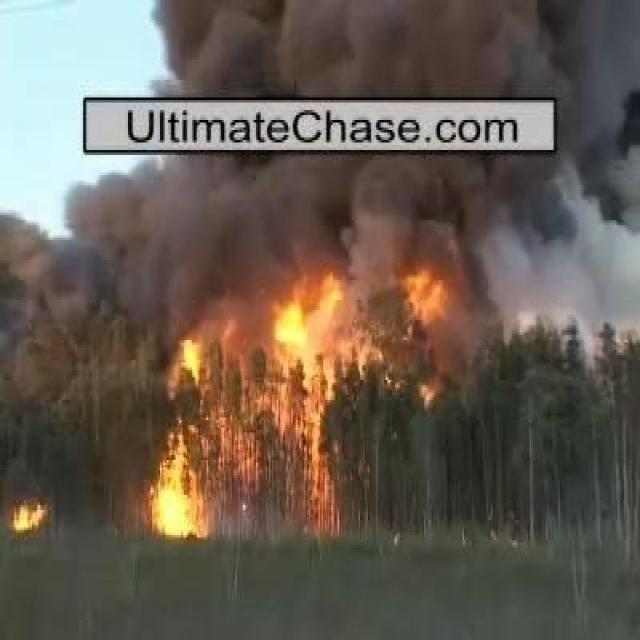Fire: (151, 445, 209, 540), (294, 398, 333, 530)
Smoke: (90, 160, 630, 340)
